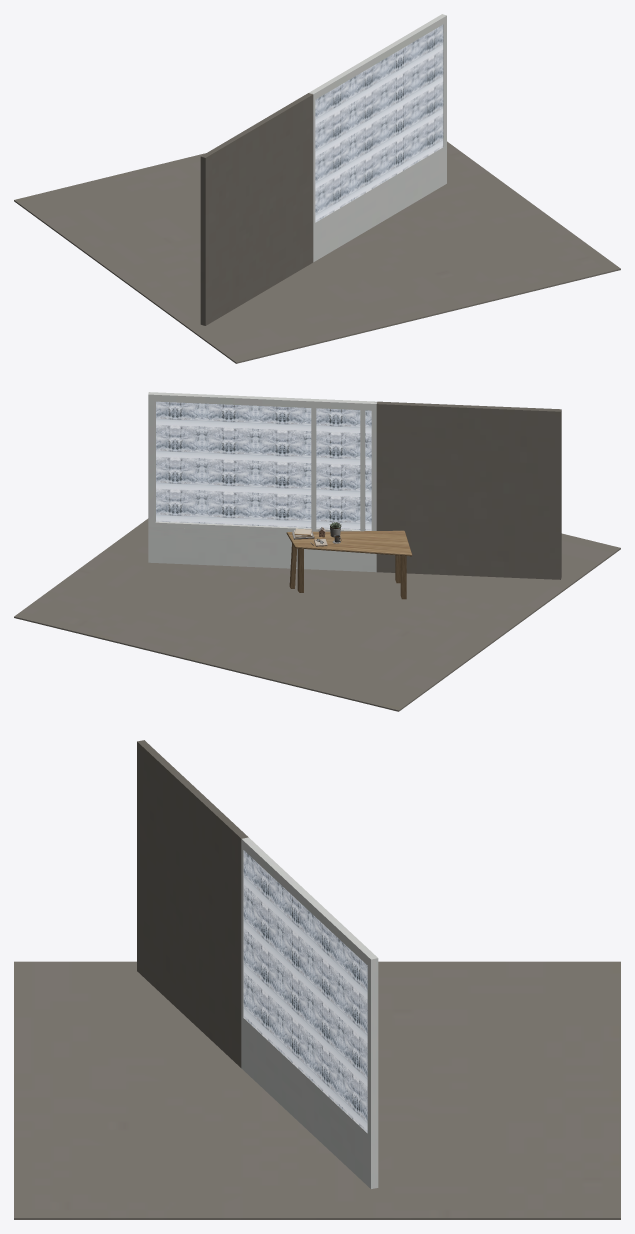
Rendered from ours.glb.
3 views of the same model, one above another, from view 1: azimuth 30°, elevation 25°; view 2: azimuth 150°, elevation 25°; view 3: azimuth 270°, elevation 25° (orthographic). The views are drawn at different scales.
Visible parts, largest first — view 1: floor_0, wall_1, wall_2_backdrop, wall_2; view 2: floor_0, wall_1, wall_2_backdrop, wall_2, table_0, wall_2_window_frame, wall_2_lower_trim; view 3: floor_0, wall_1, wall_2_backdrop, wall_2.
Boxes of the visible parts, left/top/right/bottom form: floor_0: left=14, top=141, right=620, bottom=363; wall_1: left=200, top=93, right=313, bottom=325; wall_2_backdrop: left=315, top=24, right=443, bottom=222; wall_2: left=309, top=14, right=446, bottom=262; floor_0: left=14, top=518, right=620, bottom=711; wall_1: left=376, top=401, right=561, bottom=579; wall_2_backdrop: left=156, top=401, right=371, bottom=530; wall_2: left=148, top=392, right=376, bottom=572; table_0: left=286, top=530, right=412, bottom=599; wall_2_window_frame: left=154, top=401, right=373, bottom=531; wall_2_lower_trim: left=148, top=526, right=291, bottom=543; floor_0: left=14, top=961, right=620, bottom=1219; wall_1: left=137, top=740, right=248, bottom=1067; wall_2_backdrop: left=243, top=850, right=367, bottom=1132; wall_2: left=241, top=837, right=378, bottom=1188.
Size of the model in its own units: 6 by 2.53 by 6.
Materials: 17 (17 with a texture image).
